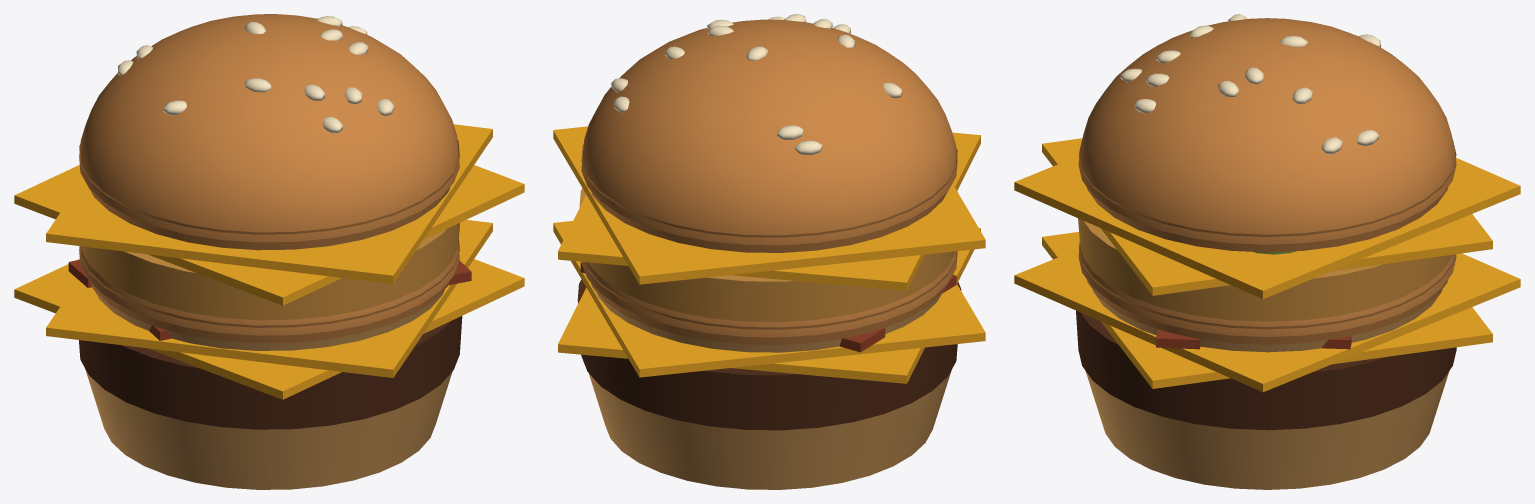
File: burger-mixta.glb
3 views of the same model, side by side, from view 1: azimuth 30°, elevation 25°; view 2: azimuth 150°, elevation 25°; view 3: azimuth 270°, elevation 25° (orthographic).
Size of the model in its own units: 0.1858 by 0.155 by 0.1858.
